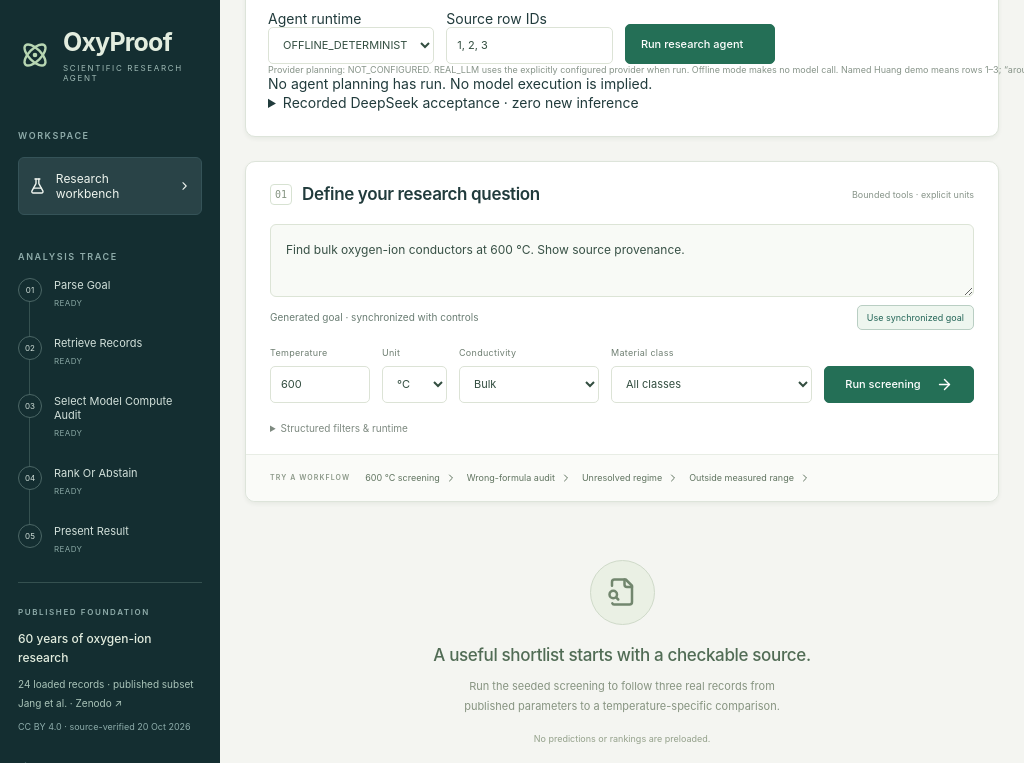
Test: workbench API contract › synchronizes generated text with temperature and type controls
(page scrolled)
Expected: the button "Run screening" is enabled, top-left (824, 366), bottom-right (974, 403)
Replace the text in the number field labelled "Temperature" with "700" at (320, 384), box top-left (270, 366), bottom-right (370, 403)
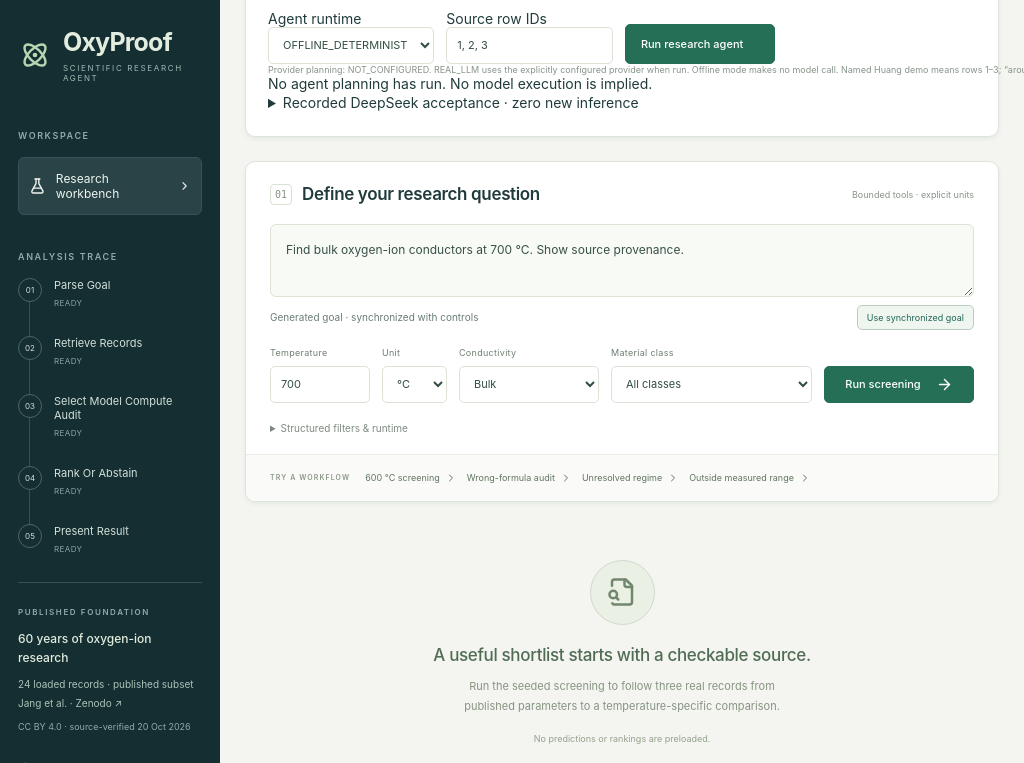
Select "Total" in the dropdown named "Conductivity type" at (529, 384), box top-left (459, 366), bottom-right (599, 403)
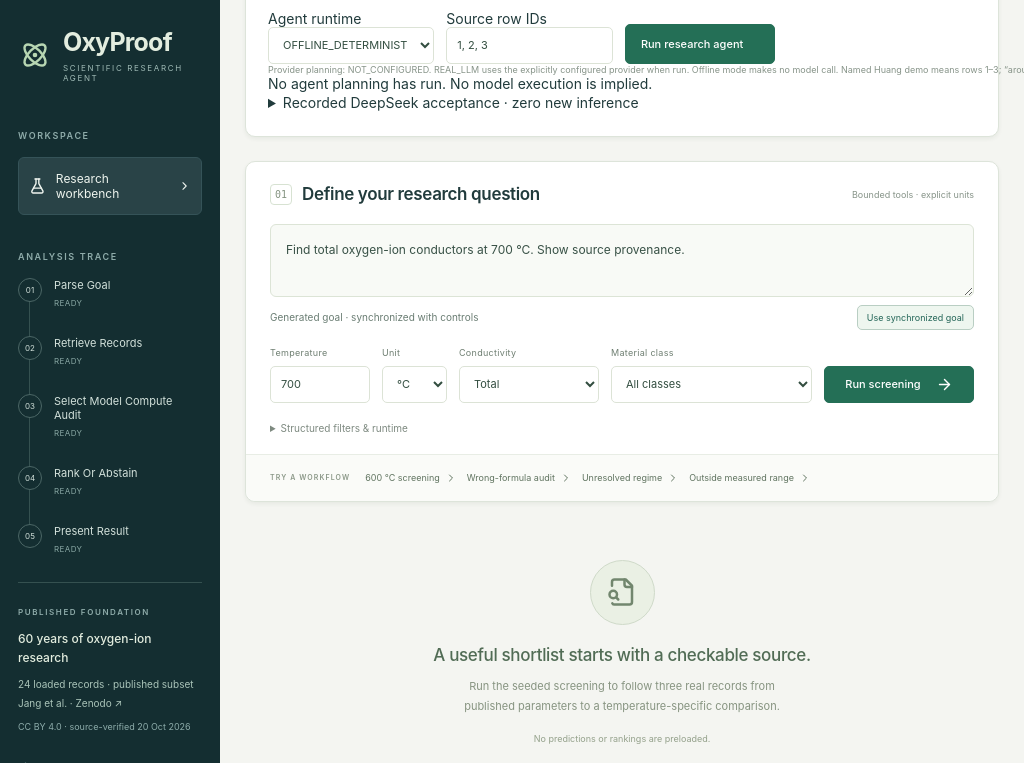
Now the text box named "Research goal" holds "Find total oxygen-ion conductors at 700 °C. Show source provenance.", box top-left (270, 224), bottom-right (974, 297)
Click the button "Run screening" at (899, 384), box top-left (824, 366), bottom-right (974, 403)
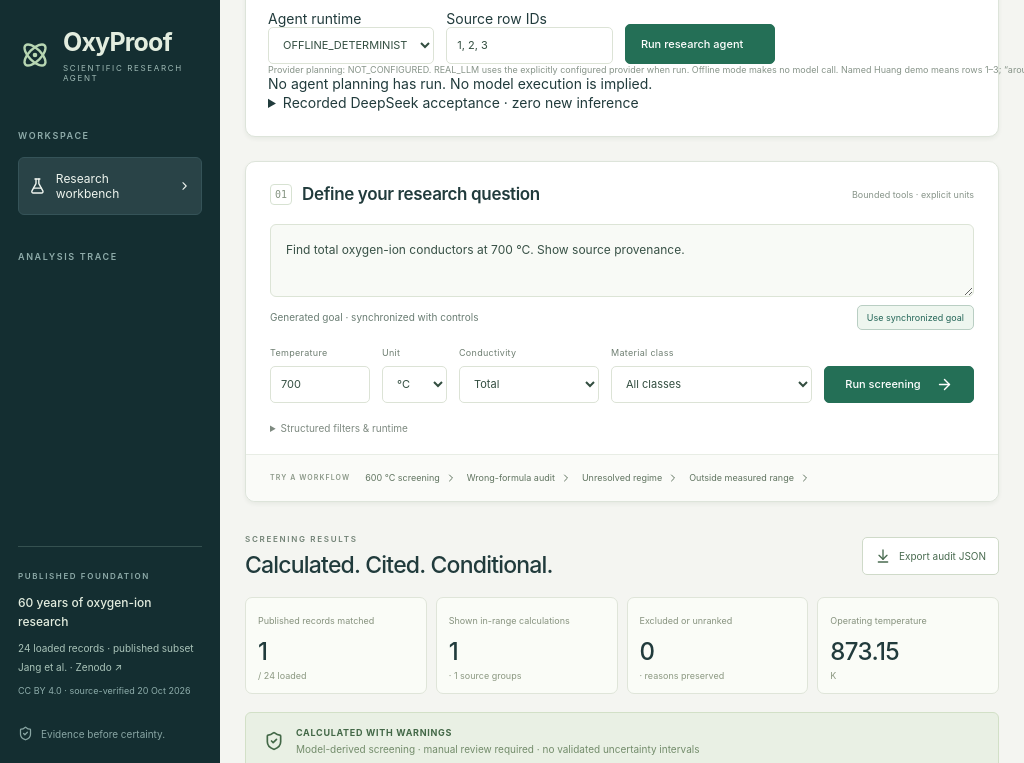
Now the heading "Calculated. Cited. Conditional." is shown, box top-left (245, 551), bottom-right (553, 579)
